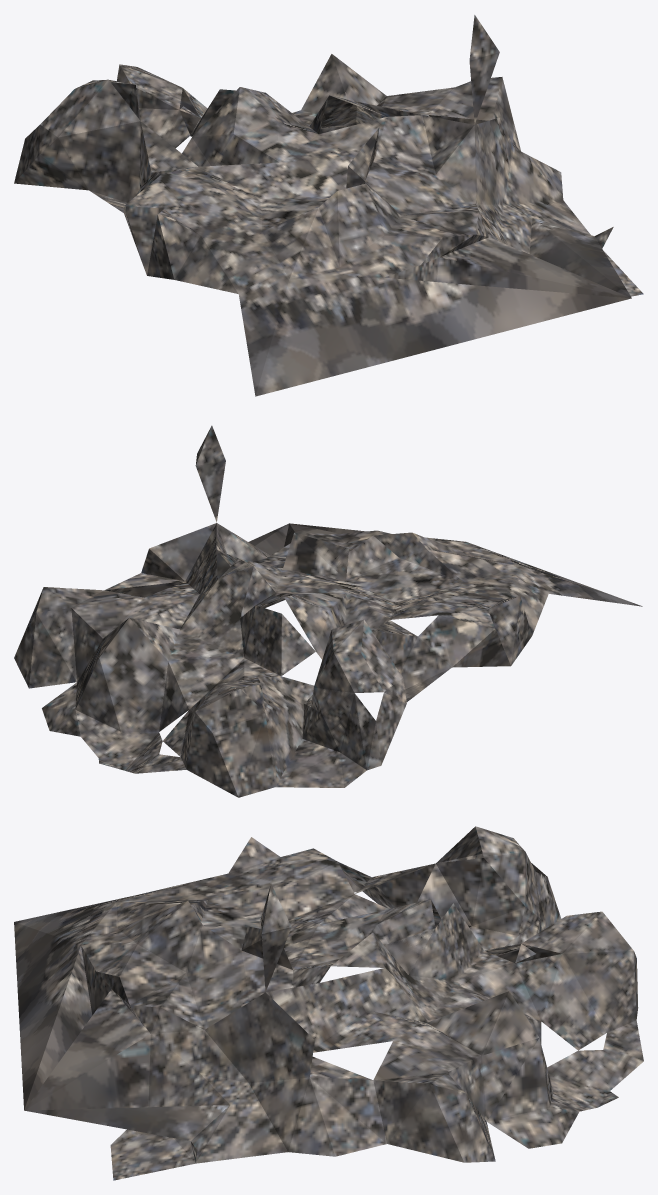
The model's file is jaffa_lod1.obj.
3 views of the same model, one above another, from view 1: azimuth 30°, elevation 25°; view 2: azimuth 150°, elevation 25°; view 3: azimuth 270°, elevation 25° (orthographic). The views are drawn at different scales.
Size of the model in its own units: 1.98 by 1 by 2.27.
Materials: 1 (1 with a texture image).
